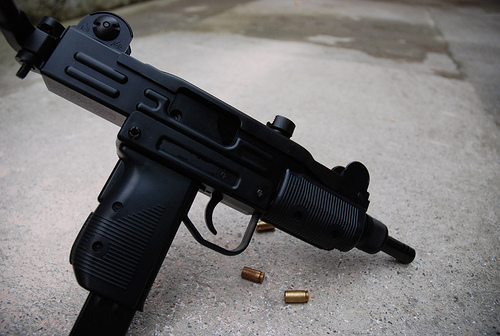rifle: (10, 8, 433, 329)
